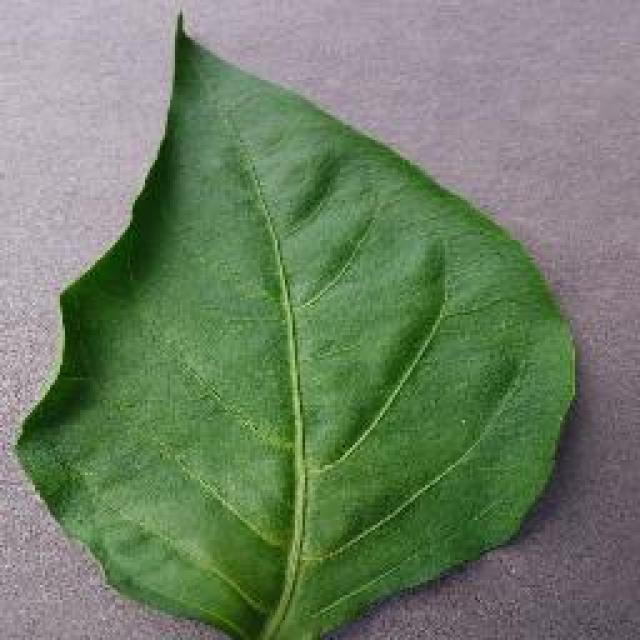Chilli_Healthy: (12, 5, 578, 637)
